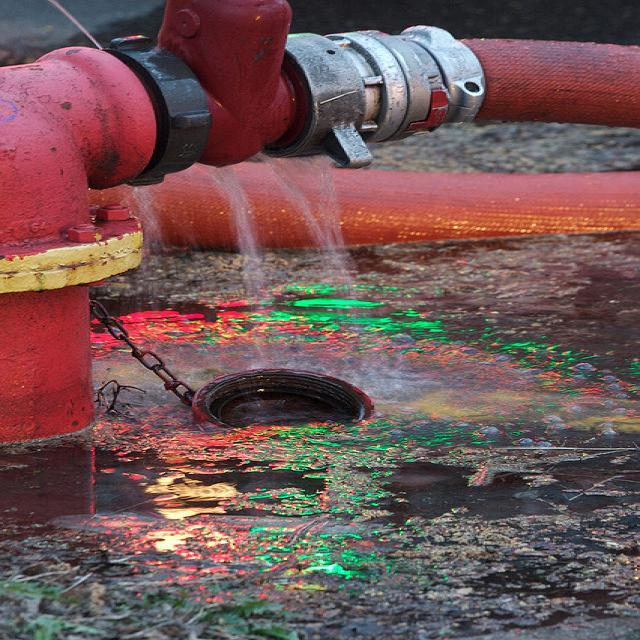fire_hydrant: (0, 0, 640, 526)
